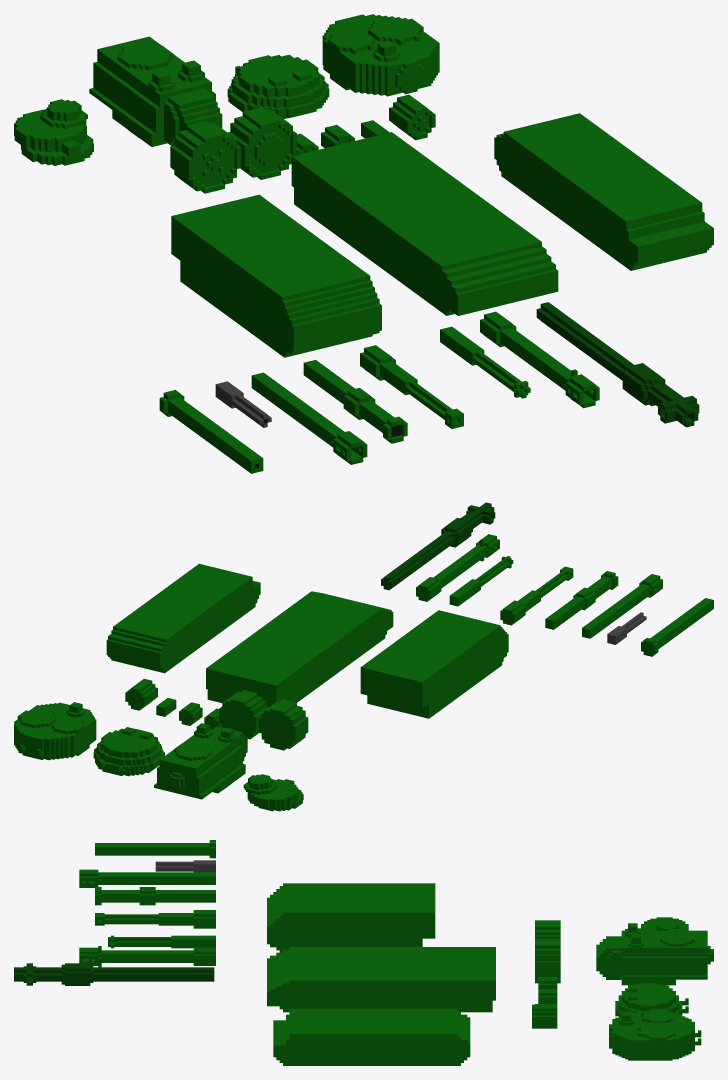
Rendered from TankConstructor.fbx.
The picture shows the model from 3 angles, top to bottom: view 1: azimuth 30°, elevation 25°; view 2: azimuth 150°, elevation 25°; view 3: azimuth 270°, elevation 25°; orthographic projection. The views are drawn at different scales.
Parts seen in each view (by area): view 1: BigBody, SmallBody, pasted__MiddleBody, BigHead, MiddleTankHead, TankHead, Gun01, SmallTankHead, circle06, circle05, Gun02, Gun06 (+6 smaller); view 2: BigBody, SmallBody, pasted__MiddleBody, BigHead, MiddleTankHead, TankHead, Gun01, circle06, SmallTankHead, circle05, Gun02, Gun06 (+6 smaller); view 3: BigBody, pasted__MiddleBody, SmallBody, BigHead, MiddleTankHead, Gun01, Gun02, Gun06, TankHead, Gun05, Gun08, Gun04 (+6 smaller).
Boxes of the visible parts, bbox=[...] form: BigBody: bbox=[291, 132, 558, 315]; SmallBody: bbox=[171, 194, 381, 357]; pasted__MiddleBody: bbox=[494, 113, 713, 270]; BigHead: bbox=[89, 36, 222, 146]; MiddleTankHead: bbox=[322, 14, 439, 96]; TankHead: bbox=[227, 54, 329, 118]; Gun01: bbox=[536, 302, 699, 427]; SmallTankHead: bbox=[14, 99, 93, 165]; circle06: bbox=[170, 121, 240, 193]; circle05: bbox=[227, 107, 296, 179]; Gun02: bbox=[480, 311, 599, 408]; Gun06: bbox=[251, 372, 367, 464]; BigBody: bbox=[206, 591, 393, 707]; SmallBody: bbox=[360, 610, 508, 718]; pasted__MiddleBody: bbox=[106, 563, 260, 673]; BigHead: bbox=[154, 723, 247, 799]; MiddleTankHead: bbox=[14, 702, 96, 760]; TankHead: bbox=[93, 727, 164, 776]; Gun01: bbox=[381, 502, 495, 590]; circle06: bbox=[259, 699, 308, 750]; SmallTankHead: bbox=[243, 774, 303, 811]; circle05: bbox=[219, 690, 267, 739]; Gun02: bbox=[416, 534, 499, 601]; Gun06: bbox=[582, 574, 662, 638]; BigBody: bbox=[267, 947, 495, 1012]; pasted__MiddleBody: bbox=[273, 1008, 470, 1065]; SmallBody: bbox=[267, 883, 435, 952]; BigHead: bbox=[596, 923, 713, 985]; MiddleTankHead: bbox=[609, 1009, 701, 1060]; Gun01: bbox=[14, 963, 214, 985]; Gun02: bbox=[79, 946, 215, 967]; Gun06: bbox=[79, 869, 215, 887]; TankHead: bbox=[615, 983, 688, 1016]; Gun05: bbox=[95, 887, 215, 905]; Gun08: bbox=[95, 840, 215, 858]; Gun04: bbox=[95, 910, 215, 928].
Bounding box in the file's own units: 22.32 × 2.4 × 33.02.
